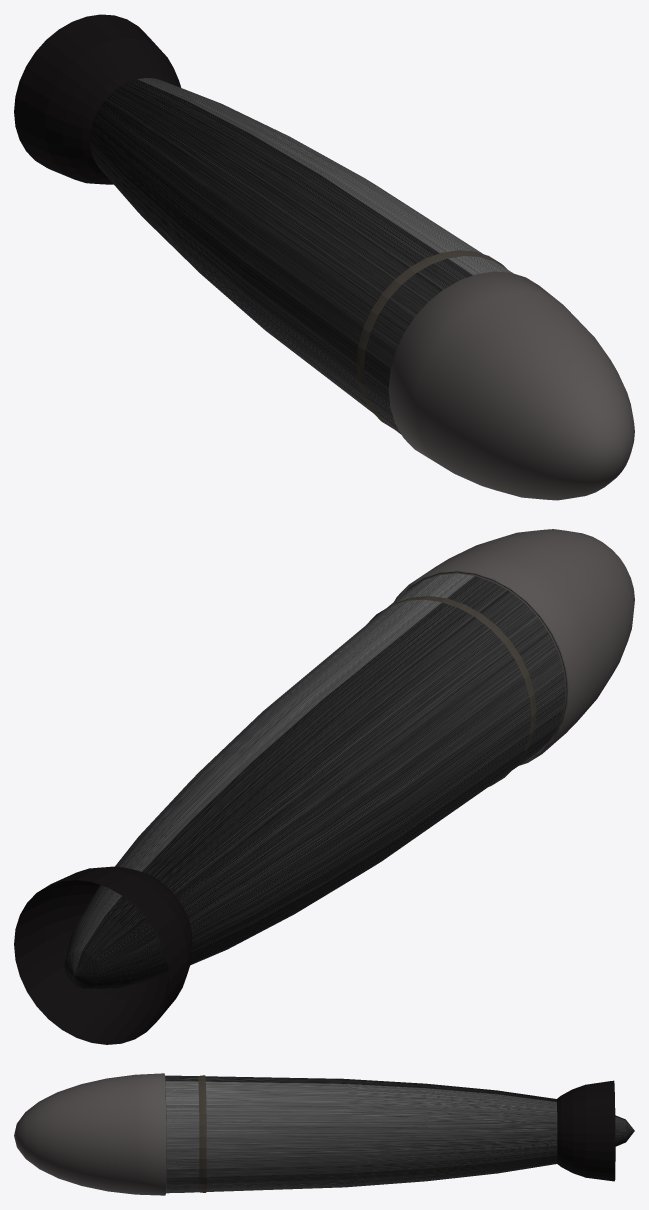
Rendered from rocket.glb.
3 renders of one model, top to bottom at view 1: azimuth 30°, elevation 25°; view 2: azimuth 150°, elevation 25°; view 3: azimuth 270°, elevation 25°, orthographic. The views are drawn at different scales.
Visible parts, largest first — view 1: Main Exhaust, Bell, End Wave, Bell Wave; view 2: Main Exhaust, Bell, End Wave, Bell Wave; view 3: Main Exhaust, Bell, End Wave, Bell Wave.
Boxes of the visible parts, bbox=[...] form: Main Exhaust: bbox=[90, 78, 513, 434]; Bell: bbox=[388, 271, 634, 500]; End Wave: bbox=[14, 14, 181, 184]; Bell Wave: bbox=[356, 250, 506, 428]; Main Exhaust: bbox=[64, 573, 565, 989]; Bell: bbox=[394, 529, 634, 765]; End Wave: bbox=[14, 866, 192, 1044]; Bell Wave: bbox=[366, 596, 536, 786]; Main Exhaust: bbox=[165, 1075, 634, 1193]; Bell: bbox=[14, 1073, 166, 1195]; End Wave: bbox=[556, 1080, 615, 1181]; Bell Wave: bbox=[198, 1075, 206, 1192].
Bounding box in the file's own units: 2.08 × 2.08 × 10.56.
Materials: 5 (2 with a texture image).
